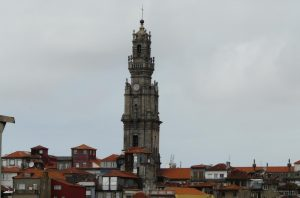clerigos: (120, 4, 163, 168)
